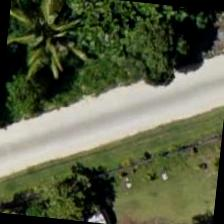Kelapa_Sawit: (4, 0, 99, 77)
